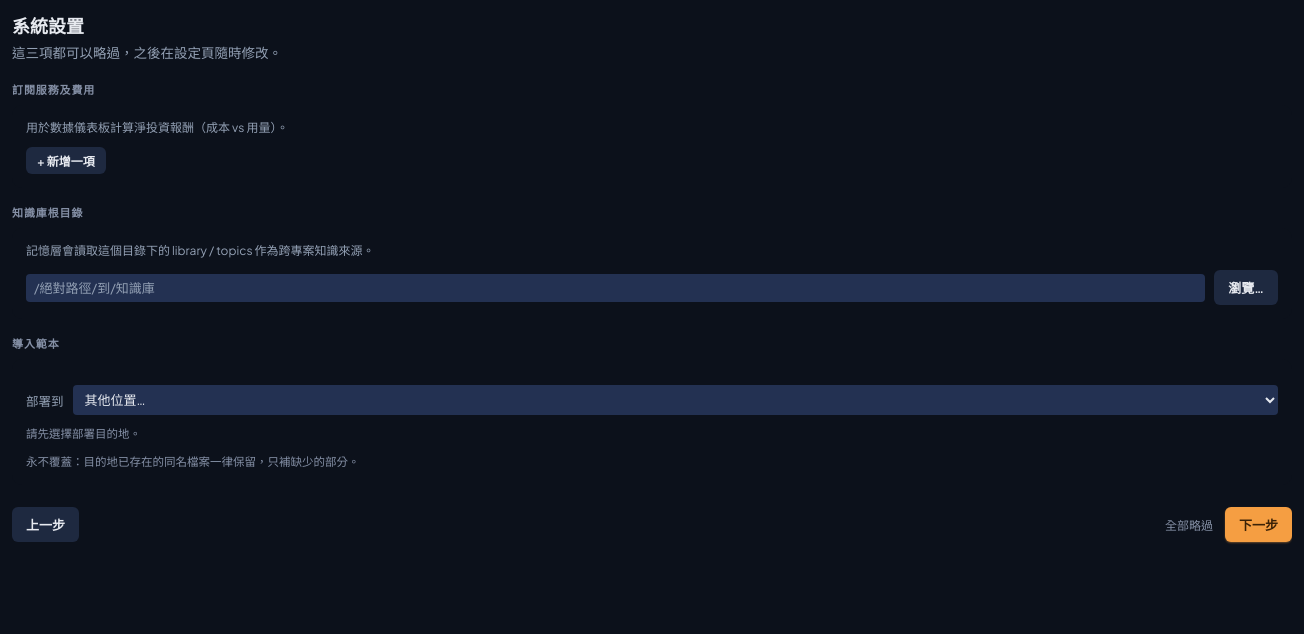
Test: SystemSettingsCard 系統設置頁（訂閱 + KMS 根目錄） › 填一半（有費用沒名稱）：擋下並顯示欄位錯誤，不送出也不前進
The width and height of the screenshot is (1304, 634).
Click the button "+ 新增一項" at (66, 161), box [26,147,106,174]
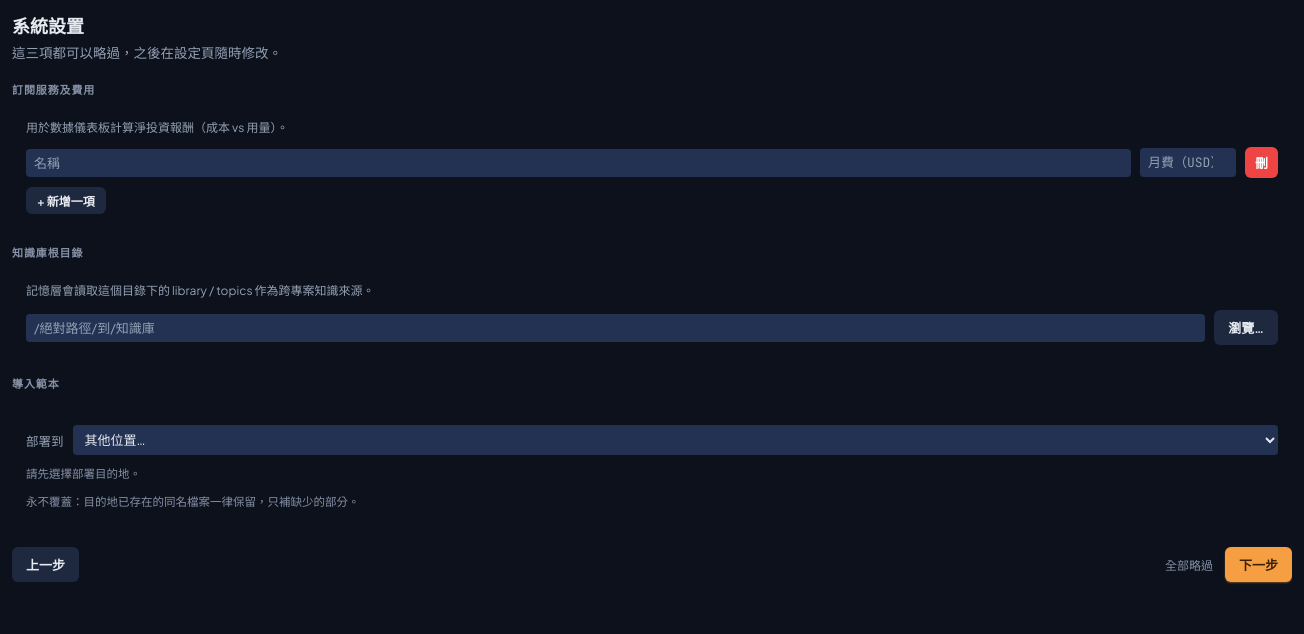
Type "20" into the number field with placeholder "月費（USD）" at (1188, 163), box [1140,148,1236,177]
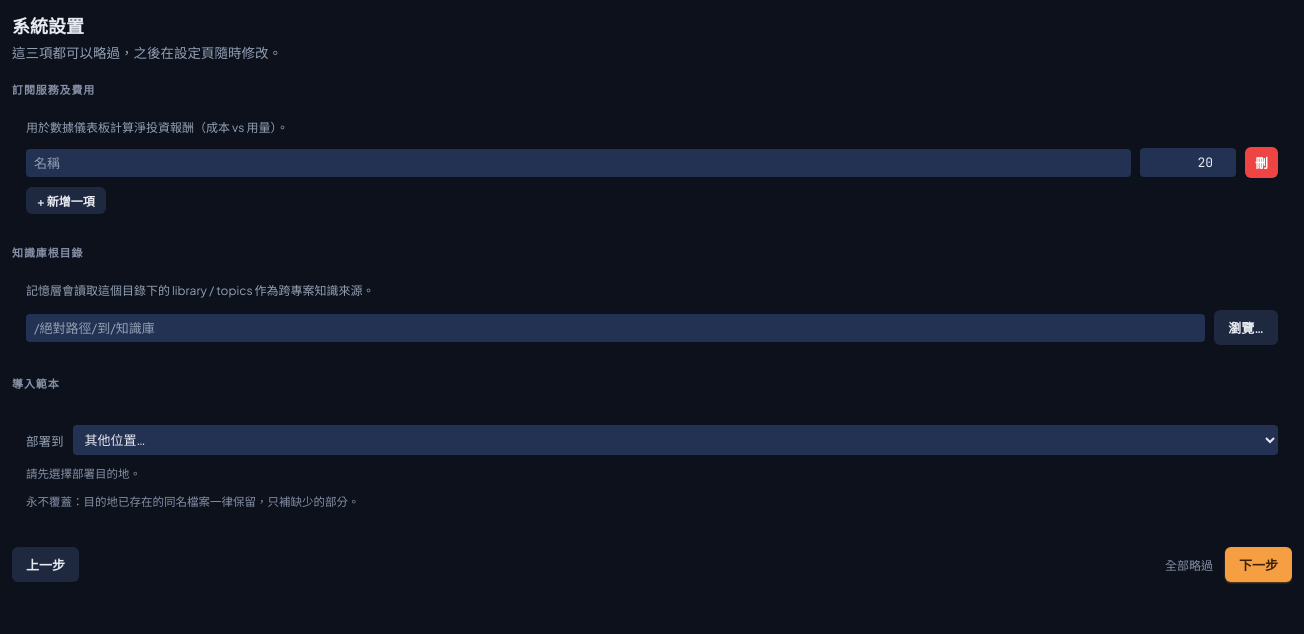
Click the button "下一步" at (1258, 564), box [1225,547,1292,582]
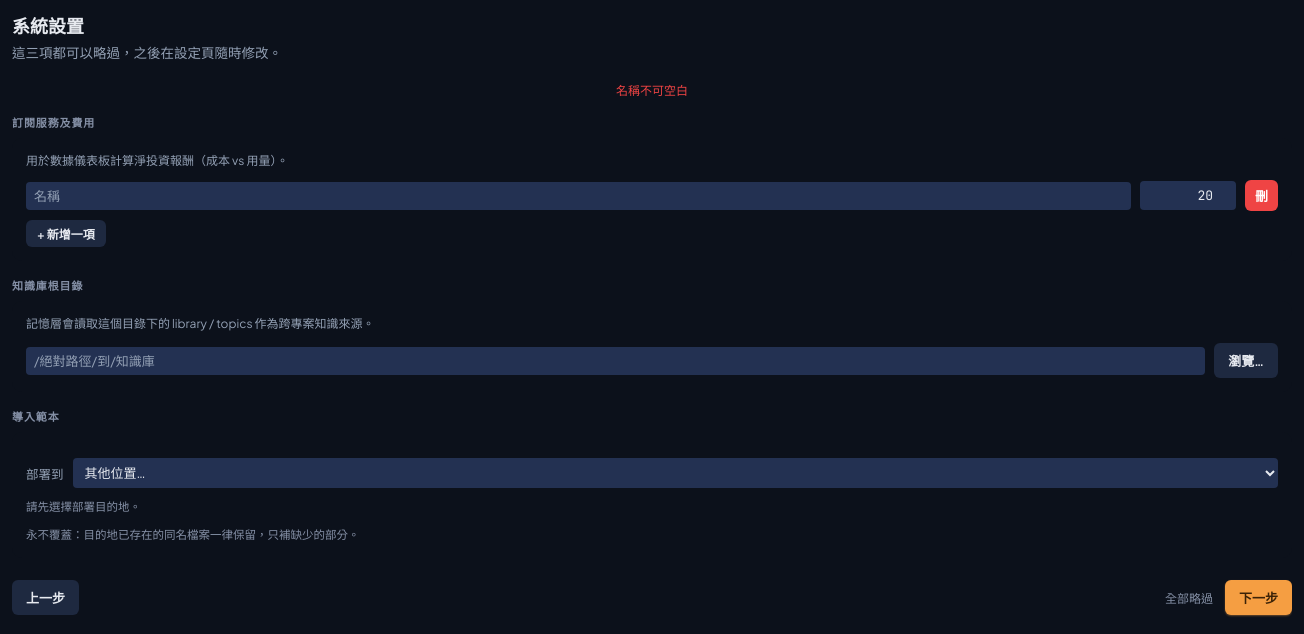
Expected: the text "名稱不可空白" is shown, [616,83,688,98]
